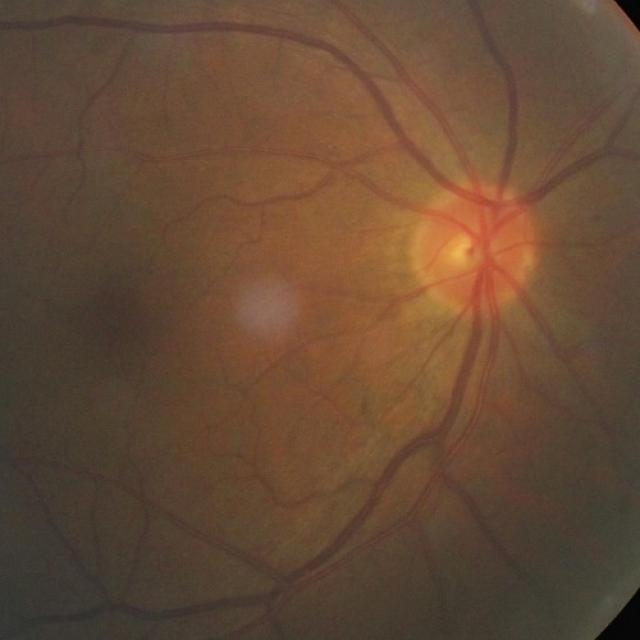OC: (452, 229, 499, 268)
OD: (416, 182, 541, 316)
